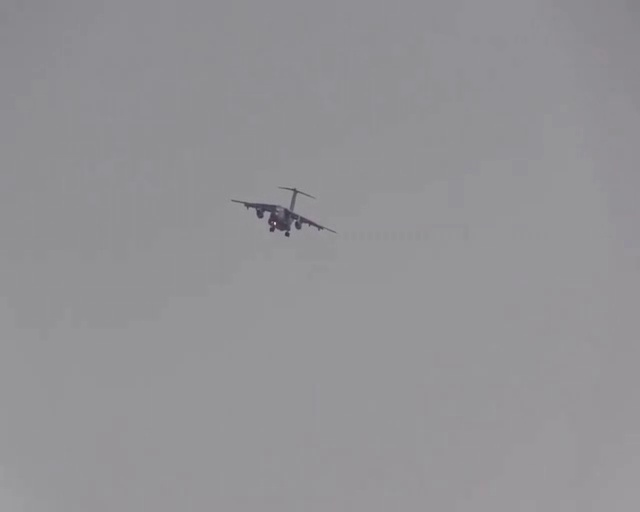AIRPLANE: (229, 186, 336, 237)
